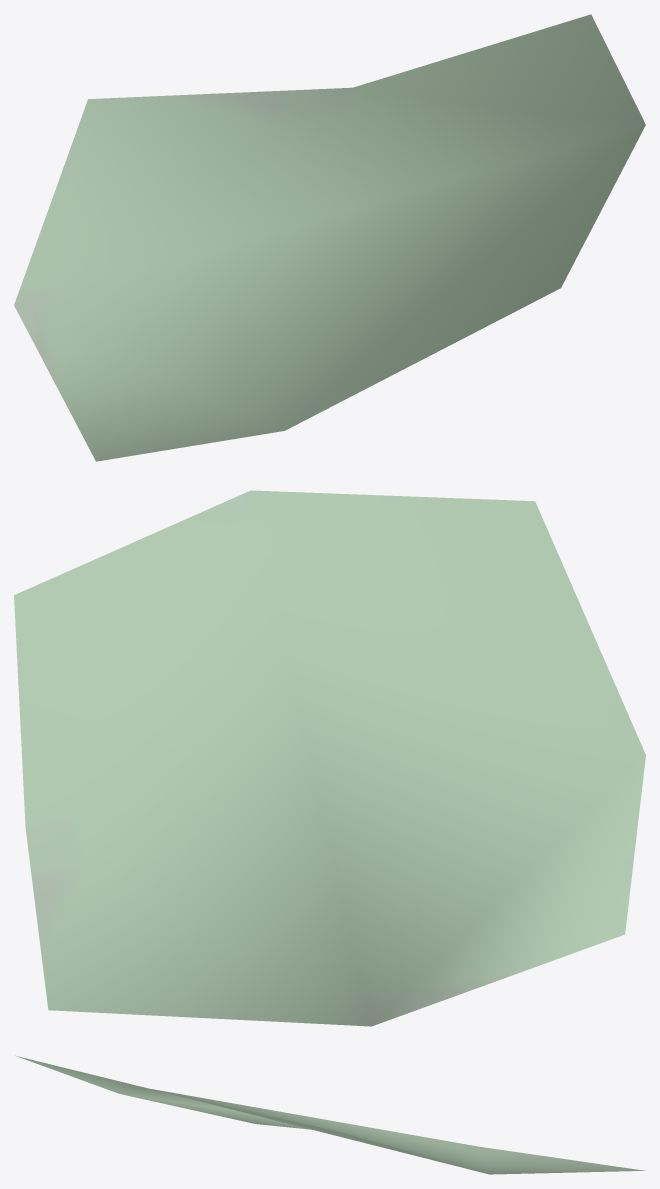
File: TROLLHOLE02_HOLECAP119.fbx
3 views of the same model, one above another, from view 1: azimuth 30°, elevation 25°; view 2: azimuth 150°, elevation 25°; view 3: azimuth 270°, elevation 25° (orthographic). The views are drawn at different scales.
Parts seen in each view (by area): view 1: TROLLHOLE02_HOLECAP119; view 2: TROLLHOLE02_HOLECAP119; view 3: TROLLHOLE02_HOLECAP119.
Part boxes in pixels (x1=…): TROLLHOLE02_HOLECAP119: x1=14, y1=14, x2=645, y2=461; TROLLHOLE02_HOLECAP119: x1=14, y1=490, x2=645, y2=1026; TROLLHOLE02_HOLECAP119: x1=15, y1=1055, x2=645, y2=1174.
Bounding box in the file's own units: 12864 × 6187 × 19306.
1 material, 1 textured.
